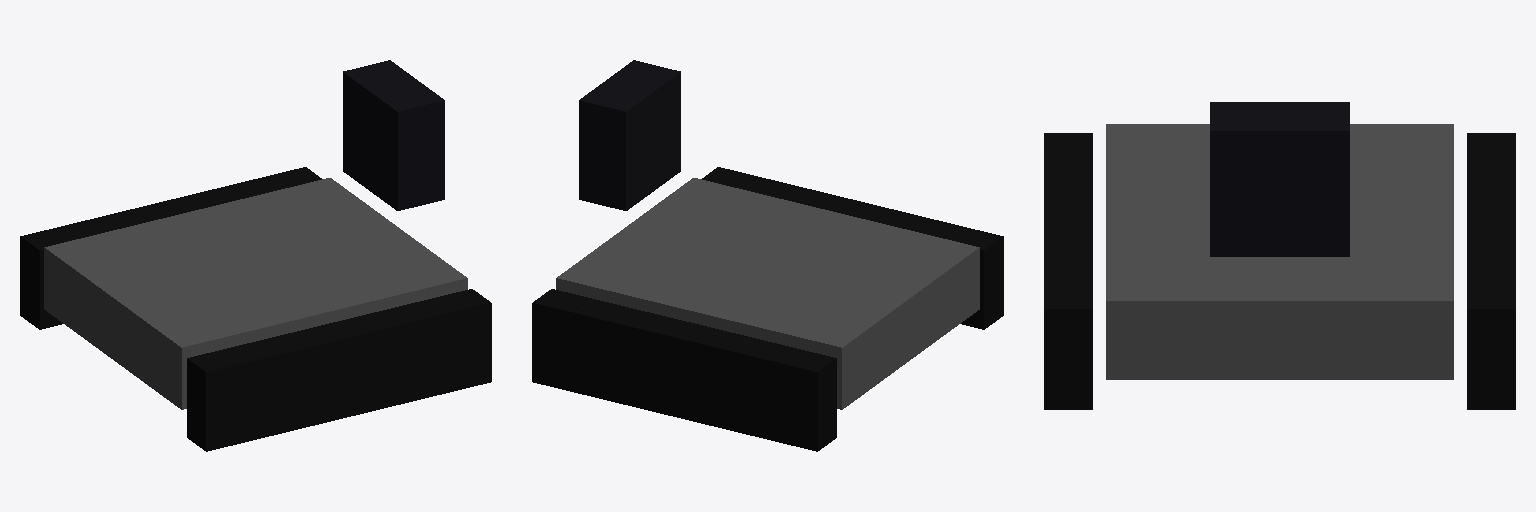
The robot description file, URDF, robot "payload":
<?xml version="1.0" ?>
<!-- =================================================================================== -->
<!-- |    This document was autogenerated by xacro from controls/sae_2025_ws/src/payload/urdf/payload.urdf.xacro | -->
<!-- |    EDITING THIS FILE BY HAND IS NOT RECOMMENDED                                 | -->
<!-- =================================================================================== -->
<robot name="payload">
  <!--
    Canonical payload description for both RViz and Gazebo Sim.

    Coordinate convention:
      x: forward
      y: left
      z: up

    These dimensions are properties so measured values can replace the
    prototype geometry without changing link, joint, plugin, or launch APIs.
  -->
  <material name="payload_body_color">
    <color rgba="0.35 0.35 0.35 1.0"/>
  </material>
  <material name="payload_tread_color">
    <color rgba="0.08 0.08 0.08 1.0"/>
  </material>
  <material name="payload_camera_color">
    <color rgba="0.10 0.10 0.12 1.0"/>
  </material>
  <link name="base_link">
    <visual name="body_visual">
      <origin rpy="0 0 0" xyz="0 0 0"/>
      <geometry>
        <box size="0.12033 0.1 0.025"/>
      </geometry>
      <material name="payload_body_color"/>
    </visual>
    <!-- Treads are visual approximations; the wheels handle contact. -->
    <visual name="left_tread_visual">
      <origin rpy="0 0 0" xyz="0 0.06066 -0.00625"/>
      <geometry>
        <box size="0.12 0.014 0.032"/>
      </geometry>
      <material name="payload_tread_color"/>
    </visual>
    <visual name="right_tread_visual">
      <origin rpy="0 0 0" xyz="0 -0.06066 -0.00625"/>
      <geometry>
        <box size="0.12 0.014 0.032"/>
      </geometry>
      <material name="payload_tread_color"/>
    </visual>
    <collision name="body_collision">
      <origin rpy="0 0 0" xyz="0 0 0"/>
      <geometry>
        <box size="0.12033 0.1 0.025"/>
      </geometry>
    </collision>
    <inertial>
      <origin rpy="0 0 0" xyz="0 0 0"/>
      <mass value="0.5"/>
      <inertia ixx="0.0004427083333333334" ixy="0.0" ixz="0.0" iyy="0.0006293462041666668" iyz="0.0" izz="0.0010199712041666668"/>
    </inertial>
  </link>
  <link name="front_left_wheel">
    <visual>
      <origin rpy="1.57079632679 0 0" xyz="0 0 0"/>
      <geometry>
        <cylinder length="0.01338964" radius="0.01611839"/>
      </geometry>
      <material name="payload_tread_color"/>
    </visual>
    <collision>
      <origin rpy="1.57079632679 0 0" xyz="0 0 0"/>
      <geometry>
        <cylinder length="0.01338964" radius="0.01611839"/>
      </geometry>
    </collision>
    <inertial>
      <origin rpy="0 0 0" xyz="0 0 0"/>
      <mass value="0.05"/>
      <!-- Solid-cylinder inertia with the cylinder axis along y. -->
      <inertia ixx="3.994541449607917e-06" ixy="0.0" ixz="0.0" iyy="6.4950624048025005e-06" iyz="0.0" izz="3.994541449607917e-06"/>
    </inertial>
  </link>
  <joint name="front_left_wheel_joint" type="continuous">
    <origin rpy="0 0 0" xyz="0.0425 0.06066 -0.00625"/>
    <parent link="base_link"/>
    <child link="front_left_wheel"/>
    <axis xyz="0 1 0"/>
    <dynamics damping="0.01" friction="0.0"/>
  </joint>
  <gazebo reference="front_left_wheel">
    <mu1>1.0</mu1>
    <mu2>1.0</mu2>
  </gazebo>
  <link name="rear_left_wheel">
    <visual>
      <origin rpy="1.57079632679 0 0" xyz="0 0 0"/>
      <geometry>
        <cylinder length="0.01338964" radius="0.01611839"/>
      </geometry>
      <material name="payload_tread_color"/>
    </visual>
    <collision>
      <origin rpy="1.57079632679 0 0" xyz="0 0 0"/>
      <geometry>
        <cylinder length="0.01338964" radius="0.01611839"/>
      </geometry>
    </collision>
    <inertial>
      <origin rpy="0 0 0" xyz="0 0 0"/>
      <mass value="0.05"/>
      <!-- Solid-cylinder inertia with the cylinder axis along y. -->
      <inertia ixx="3.994541449607917e-06" ixy="0.0" ixz="0.0" iyy="6.4950624048025005e-06" iyz="0.0" izz="3.994541449607917e-06"/>
    </inertial>
  </link>
  <joint name="rear_left_wheel_joint" type="continuous">
    <origin rpy="0 0 0" xyz="-0.0425 0.06066 -0.00625"/>
    <parent link="base_link"/>
    <child link="rear_left_wheel"/>
    <axis xyz="0 1 0"/>
    <dynamics damping="0.01" friction="0.0"/>
  </joint>
  <gazebo reference="rear_left_wheel">
    <mu1>1.0</mu1>
    <mu2>1.0</mu2>
  </gazebo>
  <link name="front_right_wheel">
    <visual>
      <origin rpy="1.57079632679 0 0" xyz="0 0 0"/>
      <geometry>
        <cylinder length="0.01338964" radius="0.01611839"/>
      </geometry>
      <material name="payload_tread_color"/>
    </visual>
    <collision>
      <origin rpy="1.57079632679 0 0" xyz="0 0 0"/>
      <geometry>
        <cylinder length="0.01338964" radius="0.01611839"/>
      </geometry>
    </collision>
    <inertial>
      <origin rpy="0 0 0" xyz="0 0 0"/>
      <mass value="0.05"/>
      <!-- Solid-cylinder inertia with the cylinder axis along y. -->
      <inertia ixx="3.994541449607917e-06" ixy="0.0" ixz="0.0" iyy="6.4950624048025005e-06" iyz="0.0" izz="3.994541449607917e-06"/>
    </inertial>
  </link>
  <joint name="front_right_wheel_joint" type="continuous">
    <origin rpy="0 0 0" xyz="0.0425 -0.06066 -0.00625"/>
    <parent link="base_link"/>
    <child link="front_right_wheel"/>
    <axis xyz="0 1 0"/>
    <dynamics damping="0.01" friction="0.0"/>
  </joint>
  <gazebo reference="front_right_wheel">
    <mu1>1.0</mu1>
    <mu2>1.0</mu2>
  </gazebo>
  <link name="rear_right_wheel">
    <visual>
      <origin rpy="1.57079632679 0 0" xyz="0 0 0"/>
      <geometry>
        <cylinder length="0.01338964" radius="0.01611839"/>
      </geometry>
      <material name="payload_tread_color"/>
    </visual>
    <collision>
      <origin rpy="1.57079632679 0 0" xyz="0 0 0"/>
      <geometry>
        <cylinder length="0.01338964" radius="0.01611839"/>
      </geometry>
    </collision>
    <inertial>
      <origin rpy="0 0 0" xyz="0 0 0"/>
      <mass value="0.05"/>
      <!-- Solid-cylinder inertia with the cylinder axis along y. -->
      <inertia ixx="3.994541449607917e-06" ixy="0.0" ixz="0.0" iyy="6.4950624048025005e-06" iyz="0.0" izz="3.994541449607917e-06"/>
    </inertial>
  </link>
  <joint name="rear_right_wheel_joint" type="continuous">
    <origin rpy="0 0 0" xyz="-0.0425 -0.06066 -0.00625"/>
    <parent link="base_link"/>
    <child link="rear_right_wheel"/>
    <axis xyz="0 1 0"/>
    <dynamics damping="0.01" friction="0.0"/>
  </joint>
  <gazebo reference="rear_right_wheel">
    <mu1>1.0</mu1>
    <mu2>1.0</mu2>
  </gazebo>
  <link name="camera_link">
    <visual>
      <origin rpy="0 0 0" xyz="0 0 0"/>
      <geometry>
        <box size="0.02 0.04 0.04"/>
      </geometry>
      <material name="payload_camera_color"/>
    </visual>
    <collision>
      <origin rpy="0 0 0" xyz="0 0 0"/>
      <geometry>
        <box size="0.02 0.04 0.04"/>
      </geometry>
    </collision>
    <inertial>
      <origin rpy="0 0 0" xyz="0 0 0"/>
      <mass value="0.05"/>
      <inertia ixx="1.3333333333333335e-05" ixy="0.0" ixz="0.0" iyy="8.333333333333334e-06" iyz="0.0" izz="8.333333333333334e-06"/>
    </inertial>
  </link>
  <joint name="camera_joint" type="fixed">
    <origin rpy="0 0 0" xyz="0.058 0.0 0.05"/>
    <parent link="base_link"/>
    <child link="camera_link"/>
  </joint>
  <!-- Standard ROS optical-frame convention: z forward, x right, y down. -->
  <link name="camera_optical_frame"/>
  <joint name="camera_optical_joint" type="fixed">
    <origin rpy="-1.57079632679 0 -1.57079632679" xyz="0 0 0"/>
    <parent link="camera_link"/>
    <child link="camera_optical_frame"/>
  </joint>
  <!-- Keep camera_link as an SDF link so its scoped Gazebo topic is stable. -->
  <gazebo reference="camera_joint">
    <preserveFixedJoint>true</preserveFixedJoint>
  </gazebo>
  <gazebo reference="camera_link">
    <sensor name="camera" type="camera">
      <pose>0 0 0 0 0 0</pose>
      <gz_frame_id>camera_optical_frame</gz_frame_id>
      <always_on>true</always_on>
      <update_rate>30</update_rate>
      <visualize>true</visualize>
      <camera>
        <horizontal_fov>1.74</horizontal_fov>
        <image>
          <width>1280</width>
          <height>960</height>
          <format>R8G8B8</format>
        </image>
        <clip>
          <near>0.1</near>
          <far>3000.0</far>
        </clip>
      </camera>
    </sensor>
  </gazebo>
  <gazebo reference="base_link">
    <sensor name="imu_sensor" type="imu">
      <pose>0 0 0 0 0 0</pose>
      <gz_frame_id>base_link</gz_frame_id>
      <always_on>true</always_on>
      <update_rate>200</update_rate>
      <visualize>false</visualize>
      <imu>
        <angular_velocity>
          <x>
            <noise type="gaussian">
              <mean>0.0</mean>
              <stddev>0.0002</stddev>
            </noise>
          </x>
          <y>
            <noise type="gaussian">
              <mean>0.0</mean>
              <stddev>0.0002</stddev>
            </noise>
          </y>
          <z>
            <noise type="gaussian">
              <mean>0.0</mean>
              <stddev>0.0002</stddev>
            </noise>
          </z>
        </angular_velocity>
        <linear_acceleration>
          <x>
            <noise type="gaussian">
              <mean>0.0</mean>
              <stddev>0.01</stddev>
            </noise>
          </x>
          <y>
            <noise type="gaussian">
              <mean>0.0</mean>
              <stddev>0.01</stddev>
            </noise>
          </y>
          <z>
            <noise type="gaussian">
              <mean>0.0</mean>
              <stddev>0.01</stddev>
            </noise>
          </z>
        </linear_acceleration>
      </imu>
    </sensor>
  </gazebo>
  <gazebo>
    <self_collide>false</self_collide>
    <!-- Four-wheel skid-steer drive. Runtime model name selects cmd_vel. -->
    <plugin filename="gz-sim-diff-drive-system" name="gz::sim::systems::DiffDrive">
      <left_joint>front_left_wheel_joint</left_joint>
      <left_joint>rear_left_wheel_joint</left_joint>
      <right_joint>front_right_wheel_joint</right_joint>
      <right_joint>rear_right_wheel_joint</right_joint>
      <wheel_separation>0.12132</wheel_separation>
      <wheel_radius>0.01611839</wheel_radius>
      <odom_publish_frequency>50</odom_publish_frequency>
      <frame_id>odom</frame_id>
      <child_frame_id>base_link</child_frame_id>
    </plugin>
    <!-- Enables a later Gazebo joint-state bridge for animated RViz wheels. -->
    <plugin filename="gz-sim-joint-state-publisher-system" name="gz::sim::systems::JointStatePublisher">
      <joint_name>front_left_wheel_joint</joint_name>
      <joint_name>rear_left_wheel_joint</joint_name>
      <joint_name>front_right_wheel_joint</joint_name>
      <joint_name>rear_right_wheel_joint</joint_name>
    </plugin>
    <!-- Enables a later Gazebo pose-to-TF bridge for live RViz motion. -->
    <plugin filename="gz-sim-pose-publisher-system" name="gz::sim::systems::PosePublisher">
      <publish_link_pose>true</publish_link_pose>
      <use_pose_vector_msg>true</use_pose_vector_msg>
      <static_publisher>true</static_publisher>
      <static_update_frequency>1</static_update_frequency>
    </plugin>
  </gazebo>
</robot>

--- What the picture shows (computed from the rendered views, not written in the file) ---
The picture shows the robot from 3 angles, left to right: view 1: azimuth 30°, elevation 25°; view 2: azimuth 150°, elevation 25°; view 3: azimuth 270°, elevation 25°; orthographic projection.
Robot: payload — 7 links, 6 joints (4 continuous, 2 fixed); root link base_link; default pose: every joint at zero.
Links seen in each view (by area): view 1: base_link, camera_link; view 2: base_link, camera_link; view 3: base_link, camera_link.
Boxes of the visible links, <box> form: base_link: <box>20,167,491,451</box>; camera_link: <box>343,60,444,210</box>; base_link: <box>532,167,1003,451</box>; camera_link: <box>579,60,680,210</box>; base_link: <box>1044,124,1515,409</box>; camera_link: <box>1210,102,1349,256</box>.
Size in the robot's own frame: 0.1282 by 0.1353 by 0.0924 metres.
Geometry: primitives only (box / cylinder / sphere), no mesh files.
